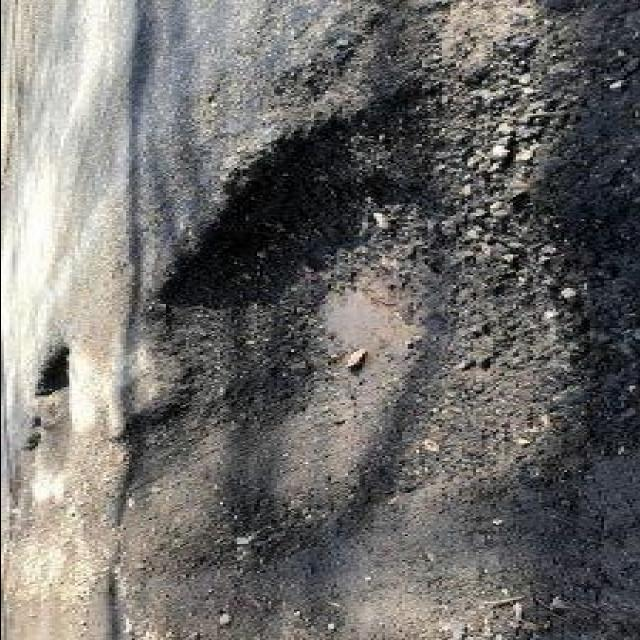jalan retak: (107, 2, 166, 340)
lubang: (100, 91, 640, 640), (228, 4, 640, 194), (0, 331, 68, 536), (28, 340, 82, 408)
